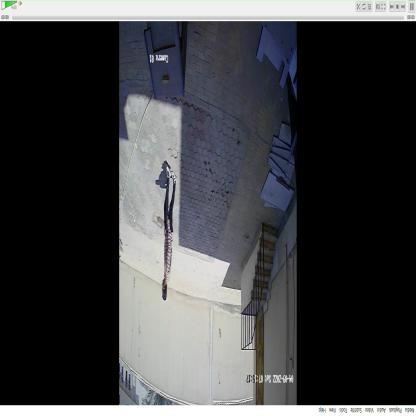handgun: (164, 178, 171, 237)
